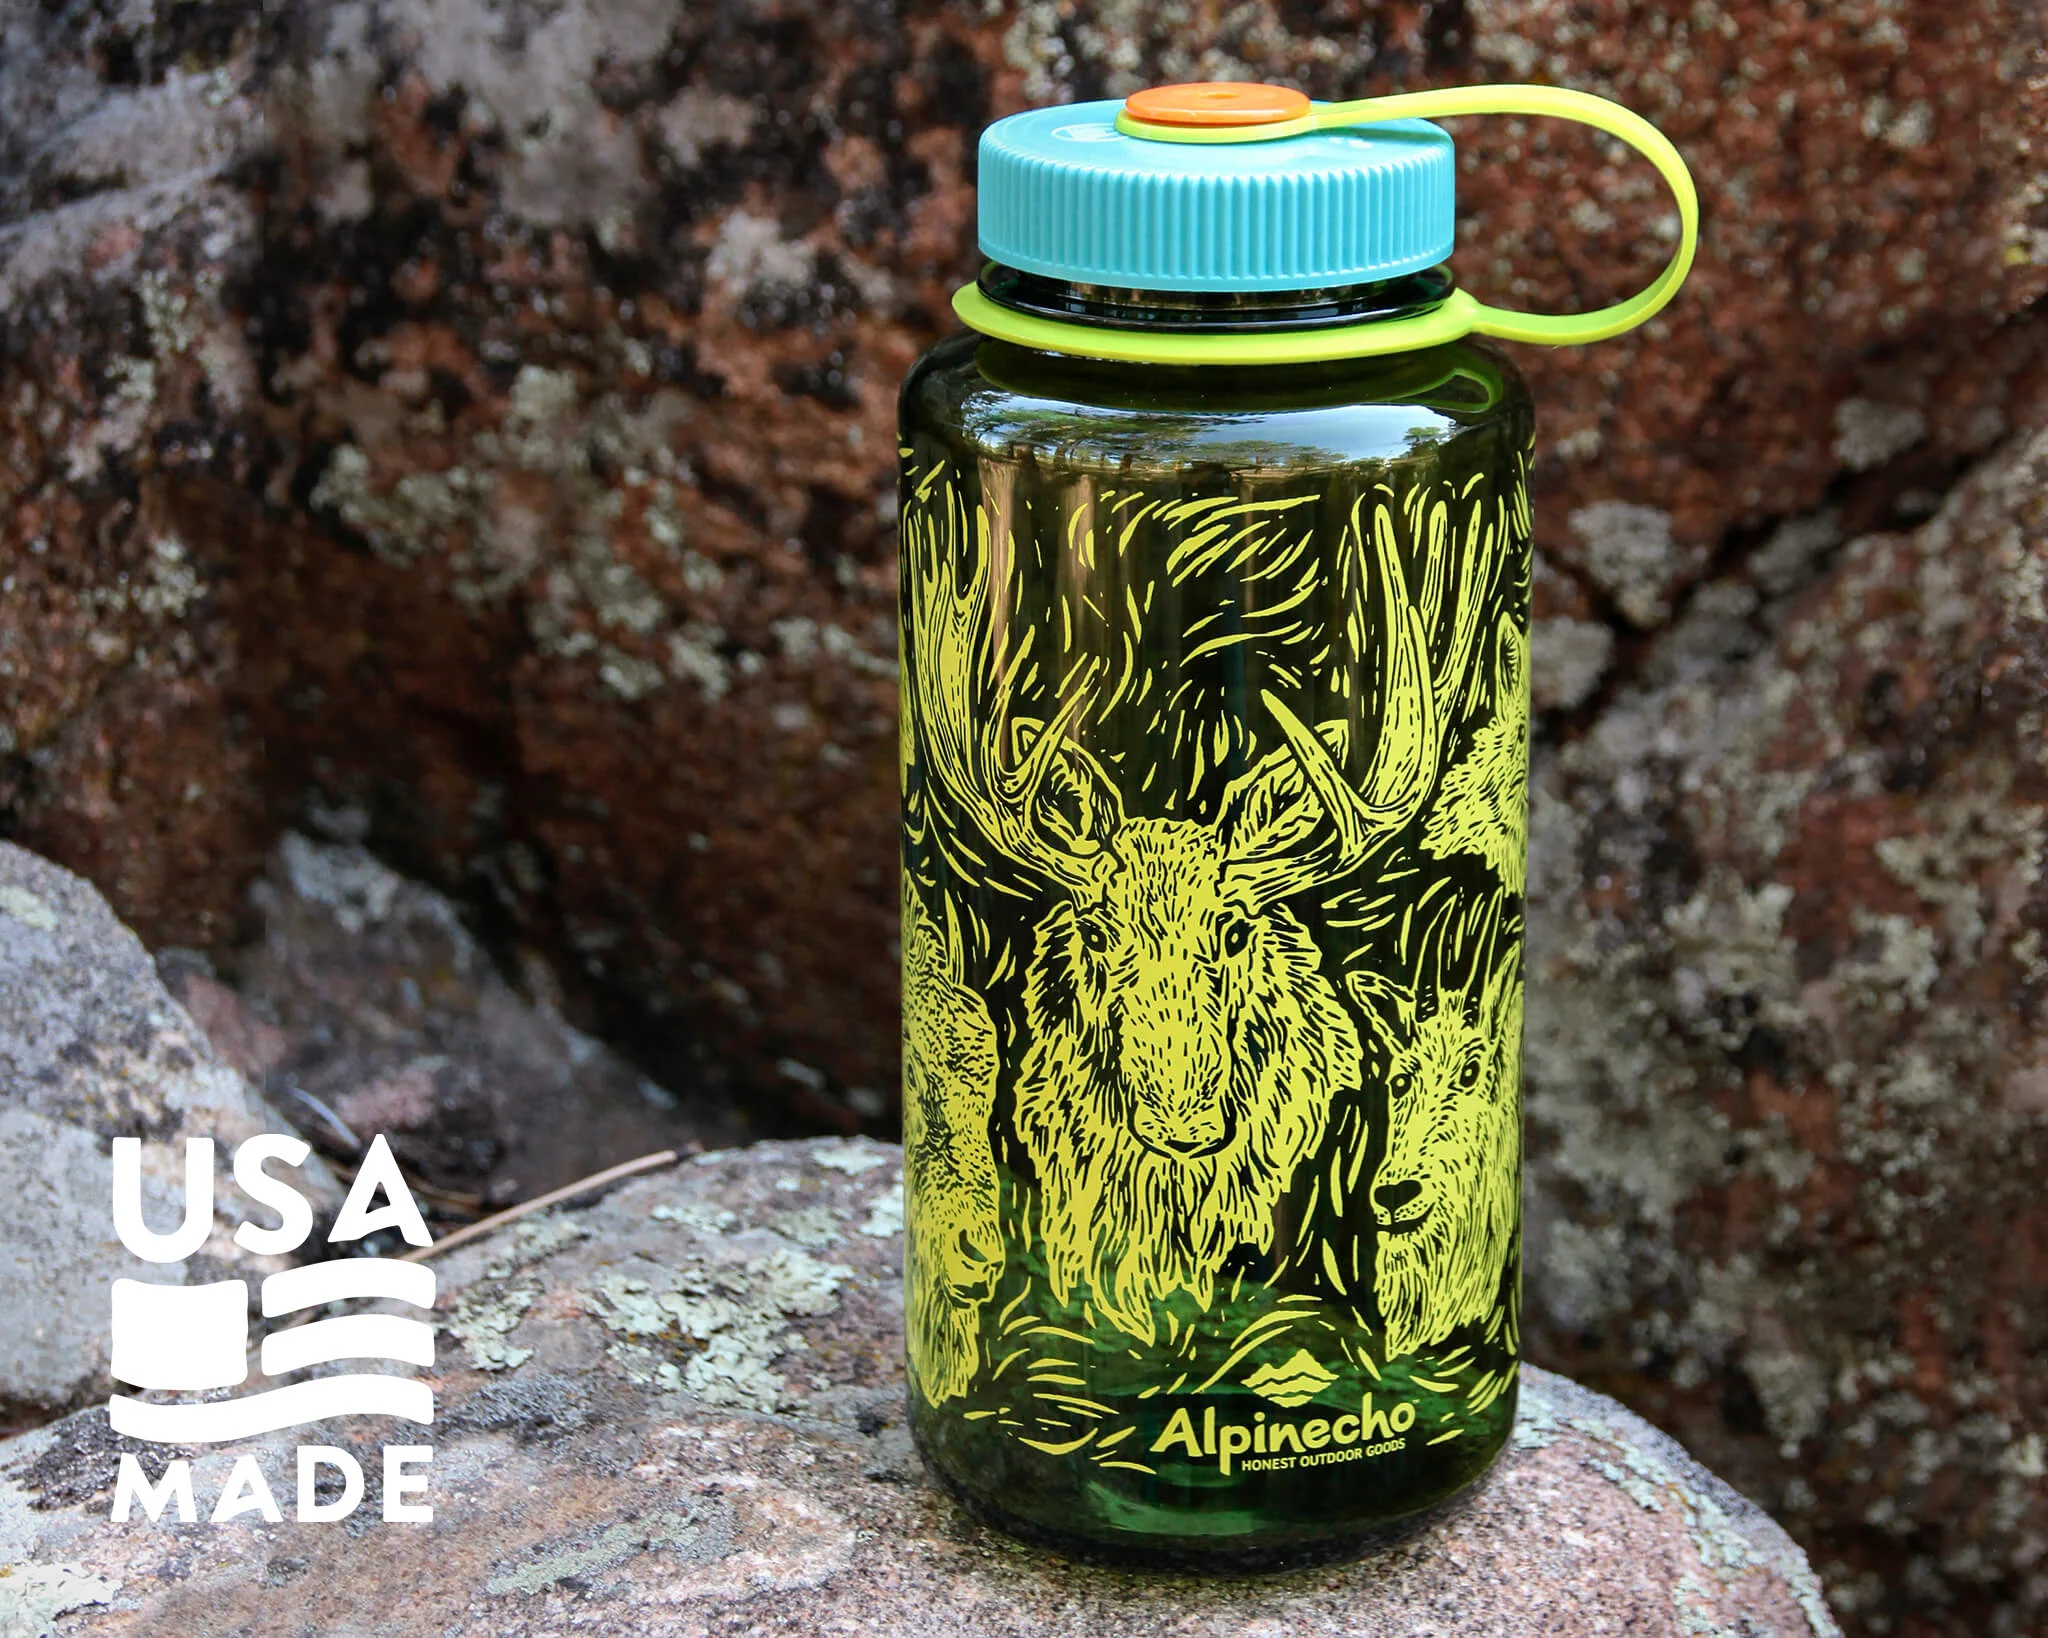bottle: (893, 79, 1699, 1579)
